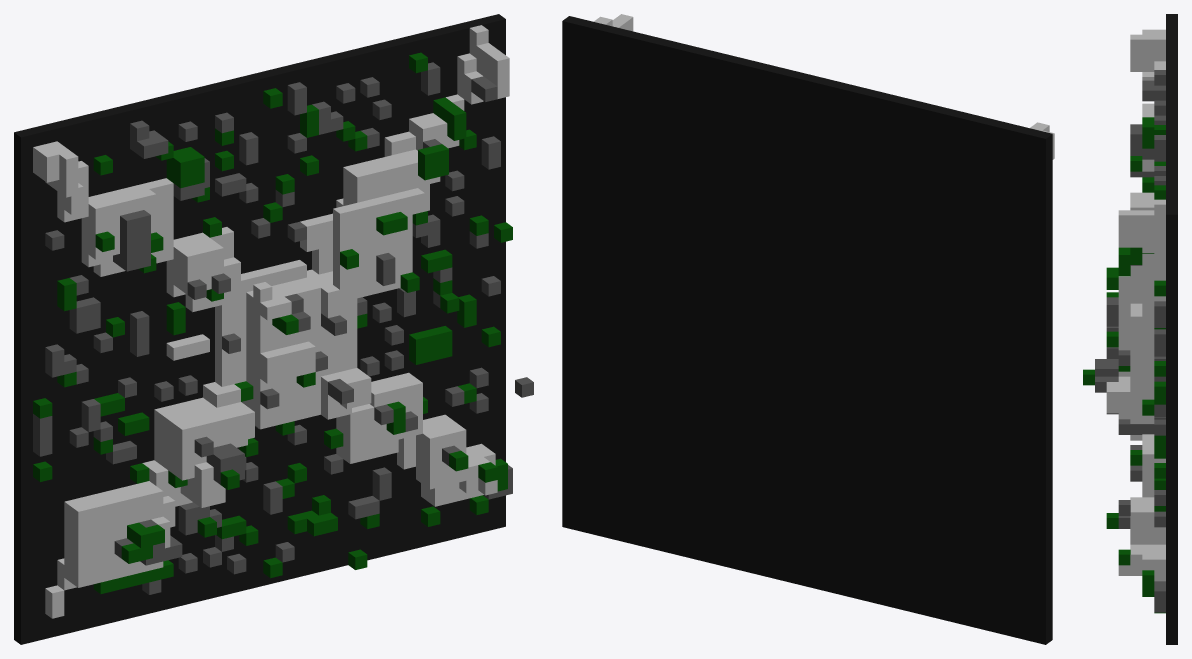
The model's file is Bane without ground.obj.
3 views of the same model, side by side, from view 1: azimuth 30°, elevation 25°; view 2: azimuth 150°, elevation 25°; view 3: azimuth 270°, elevation 25° (orthographic). The views are drawn at different scales.
Size of the model in its own units: 40 by 40 by 8.
Materials: 1 (1 with a texture image).
